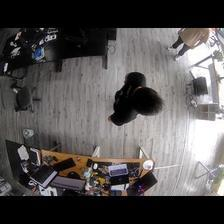normal: (107, 72, 165, 127)
